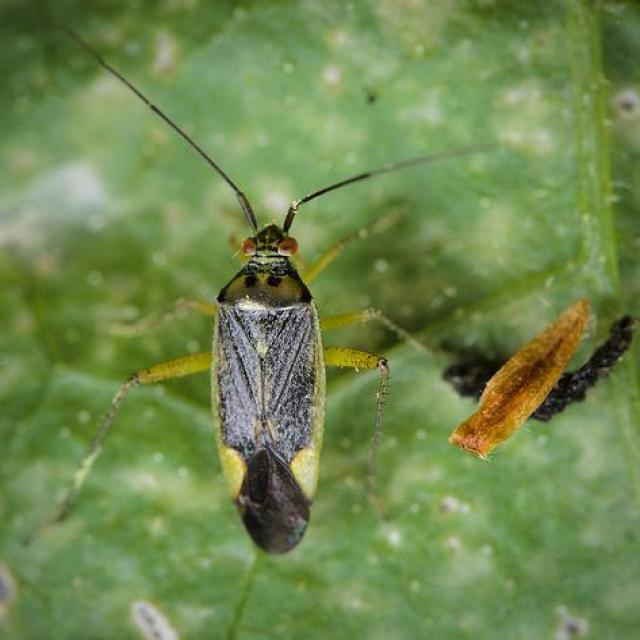Miridae-Adult-: (57, 26, 506, 566)
